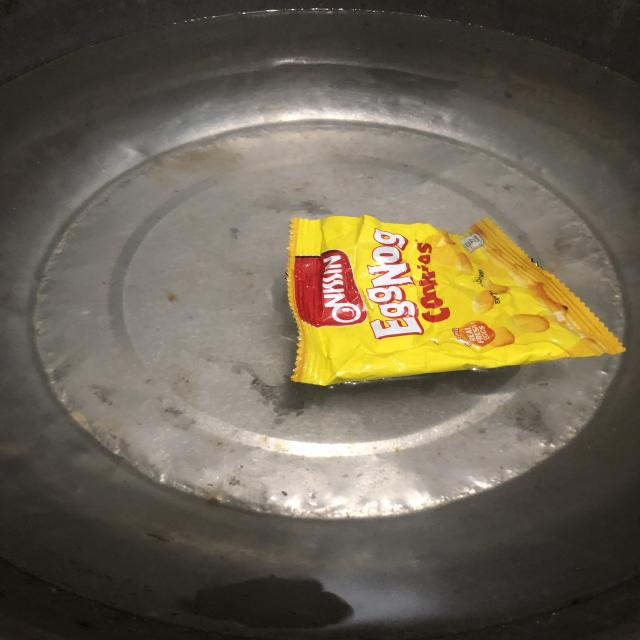Plastic Wrapper: (247, 182, 640, 415)
